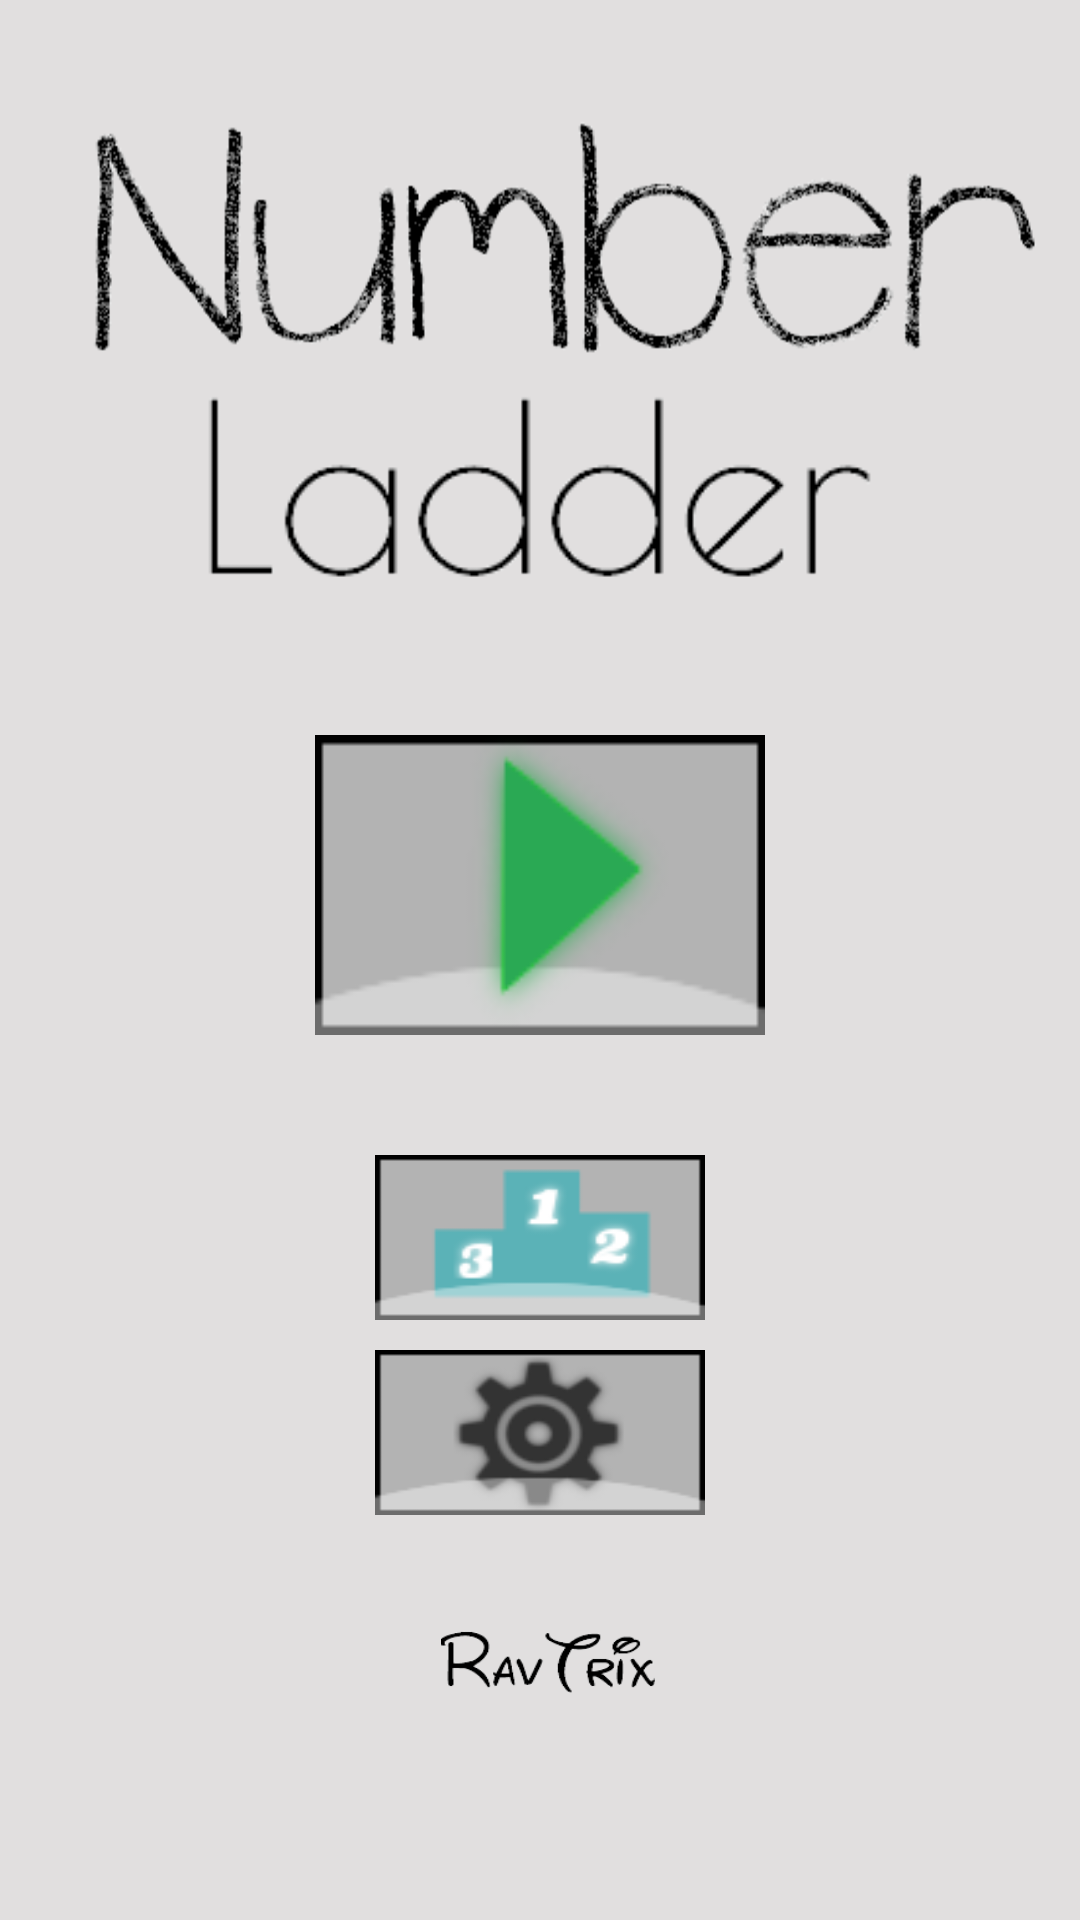

Point at icon controls on the screen. Image size 1080 × 1920, points as point (x, y).
rank: point (540, 1237)
setting: point (540, 1432)
